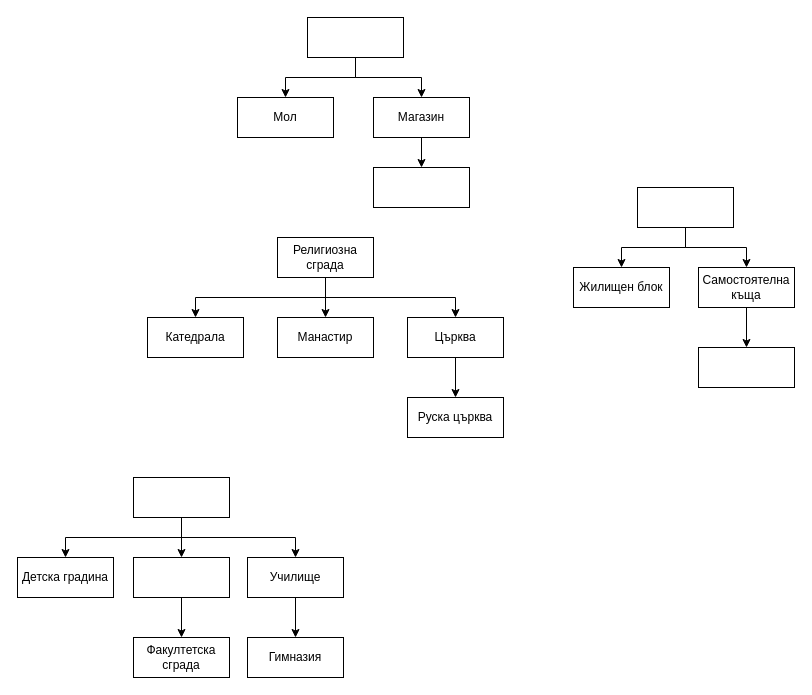
The diagram is 812 pixels wide and 695 high, and some of its shapes have lost their labels. The centre of each missing label's shape, as x and y in pixels:
"Бизнес сграда" belongs at (355,37).
"Жилищна сграда" belongs at (685,207).
"Образователна сграда" belongs at (181,497).
"Сглобяема дървена къща" belongs at (746,367).
"Супермаркет" belongs at (421,187).
"Университетска сграда" belongs at (181,577).
